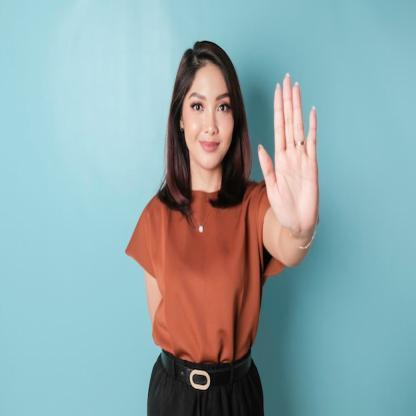stop: (256, 69, 322, 240)
